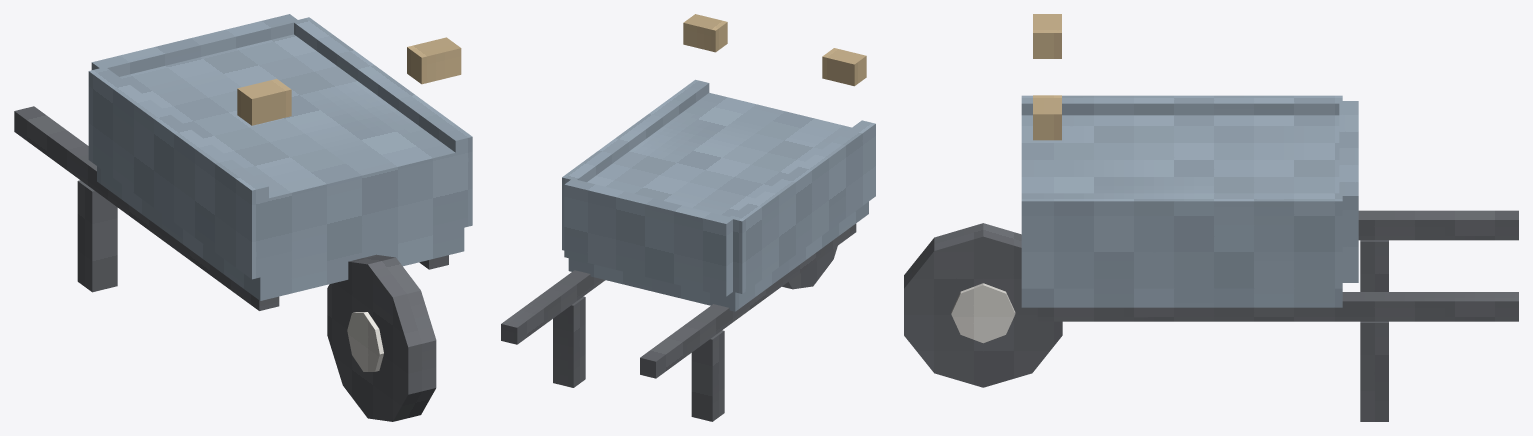
File: pixel-modern-farm-wheelbarrow-b0ab2683__29145.glb
3 views of the same model, side by side, from view 1: azimuth 30°, elevation 25°; view 2: azimuth 150°, elevation 25°; view 3: azimuth 270°, elevation 25° (orthographic). The views are drawn at different scales.
Parts seen in each view (by area): view 1: wheelbarrow; view 2: wheelbarrow; view 3: wheelbarrow.
Boxes of the visible parts, x1,y1,x2,y2 form: wheelbarrow: [14, 14, 472, 421]; wheelbarrow: [501, 14, 875, 421]; wheelbarrow: [904, 14, 1518, 421].
Size of the model in its own units: 0.78 by 1.09 by 1.92.
4 materials, 4 textured.
